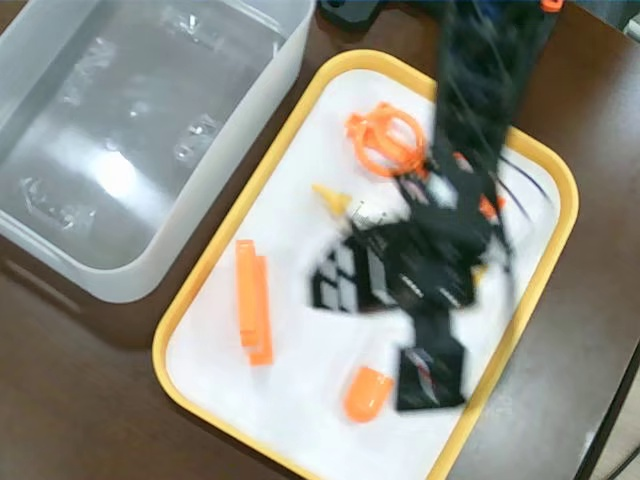pill: (341, 338, 406, 427)
